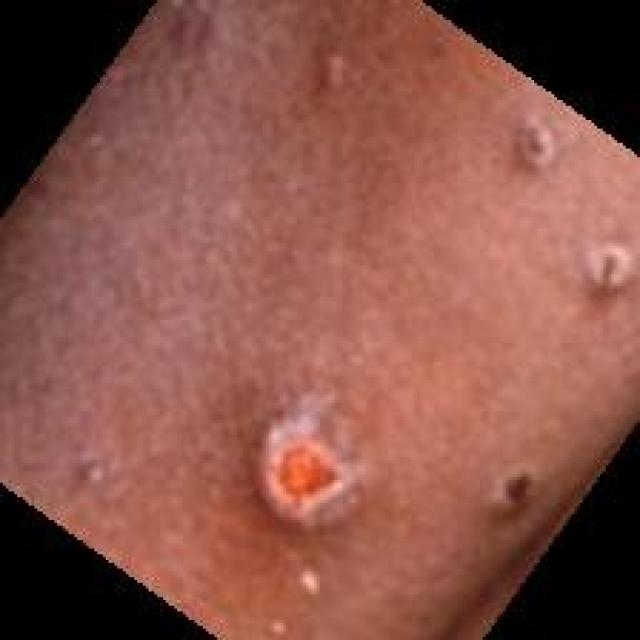monkeypox: (77, 71, 640, 580)
